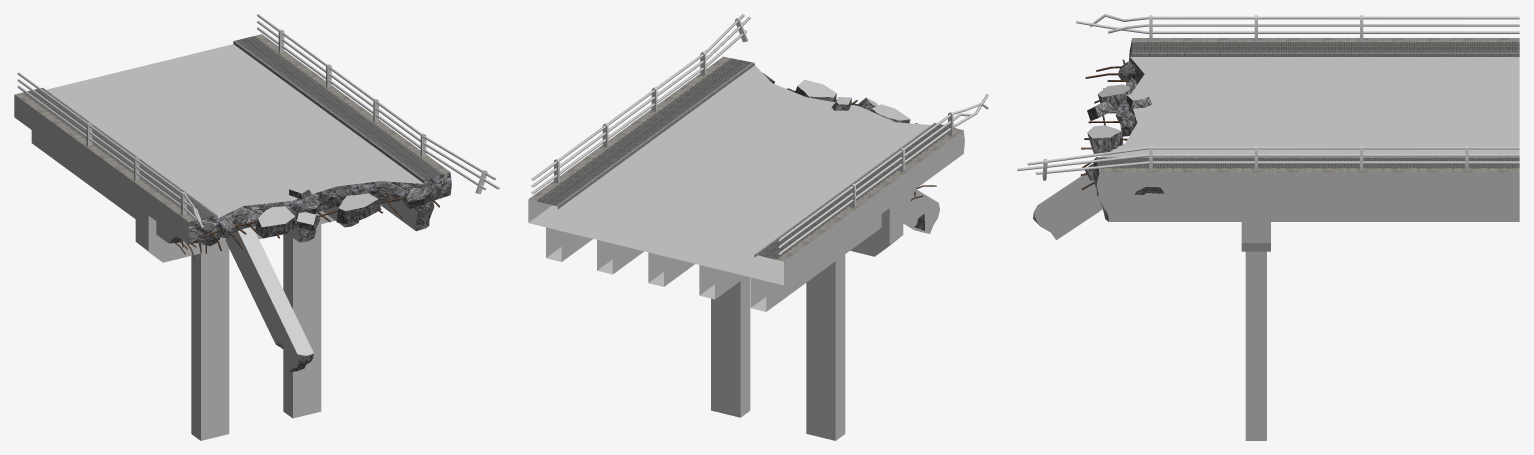
The model's file is SecondBridgePart.fbx.
The picture shows the model from 3 angles, left to right: view 1: azimuth 30°, elevation 25°; view 2: azimuth 150°, elevation 25°; view 3: azimuth 270°, elevation 25°; orthographic projection. The views are drawn at different scales.
Parts seen in each view (by area): view 1: overpass_des_LOD0.001; view 2: overpass_des_LOD0.001; view 3: overpass_des_LOD0.001.
Boxes of the visible parts, x1,y1,x2,y2 form: overpass_des_LOD0.001: (14,14,499,440); overpass_des_LOD0.001: (528,14,988,440); overpass_des_LOD0.001: (1017,14,1519,440).
Size of the model in its own units: 2886 by 3040 by 4222.
